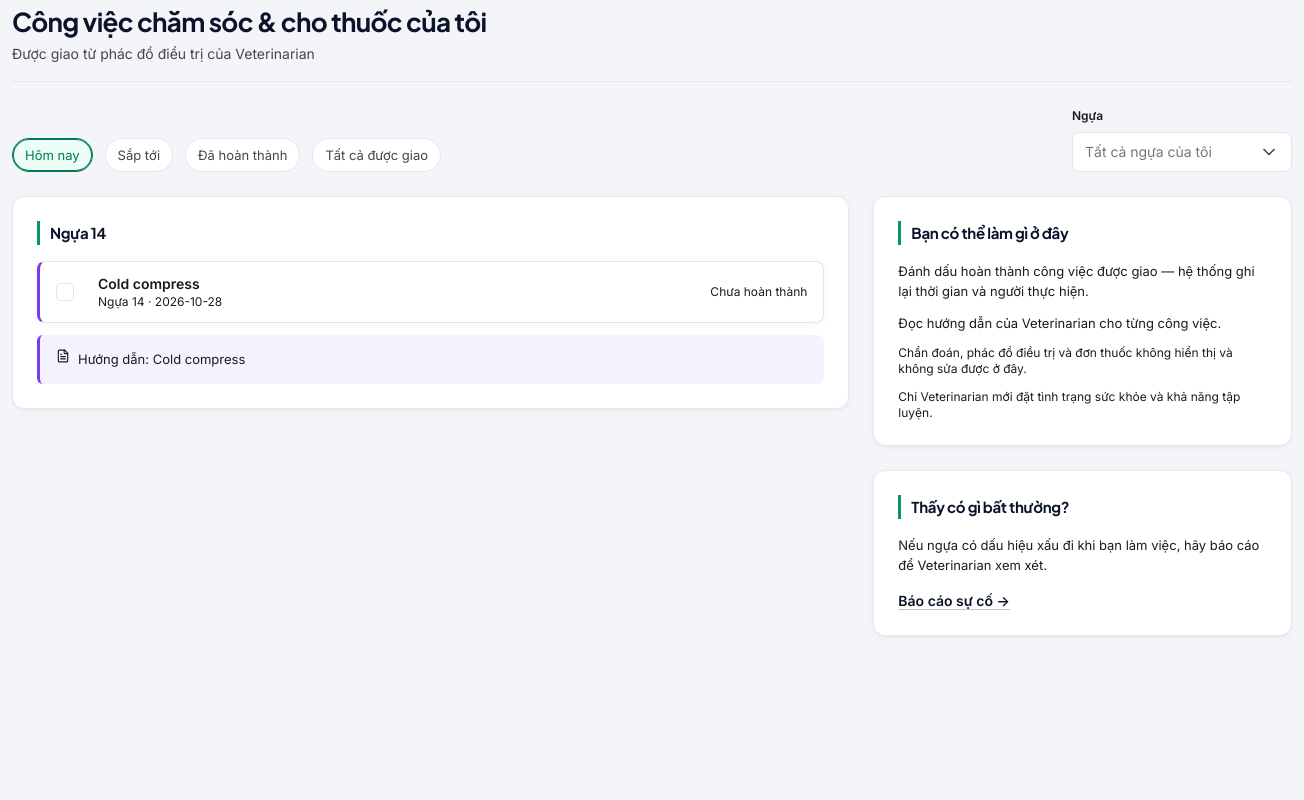
Test: preserves failed completion, masks server clinical error text and offers list retry
The image size is (1304, 800).
Step 1. Click the checkbox → (65, 292), box [56, 284, 74, 302]
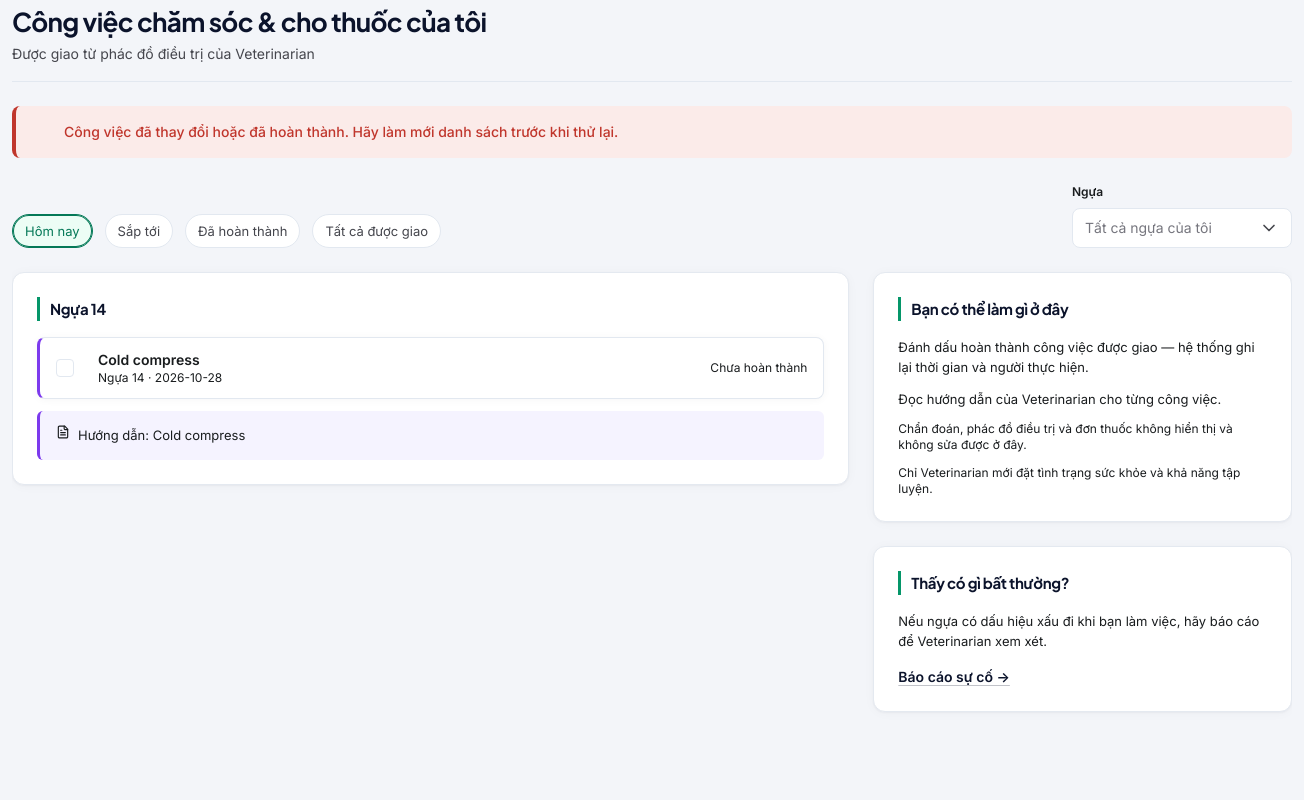
Expected: the checkbox is not checked, [56, 360, 74, 378]
Expected: the message shows "Công việc đã thay đổi hoặc đã hoàn thành", [64, 124, 618, 140]
